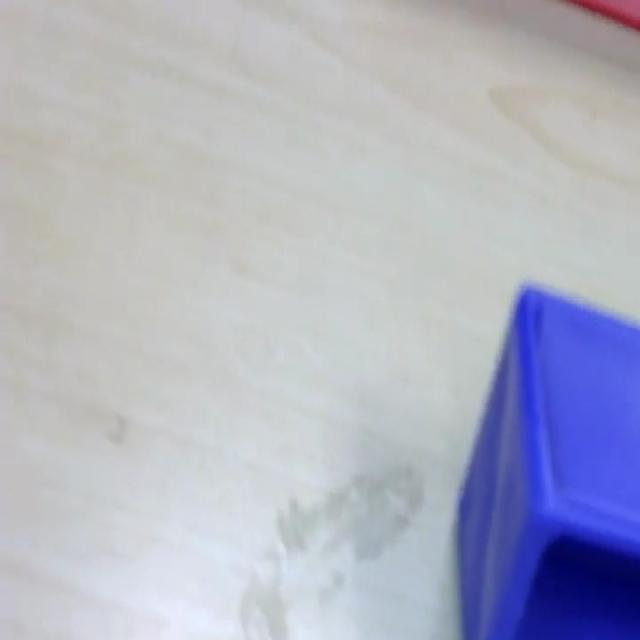blue_block: (454, 280, 638, 636)
